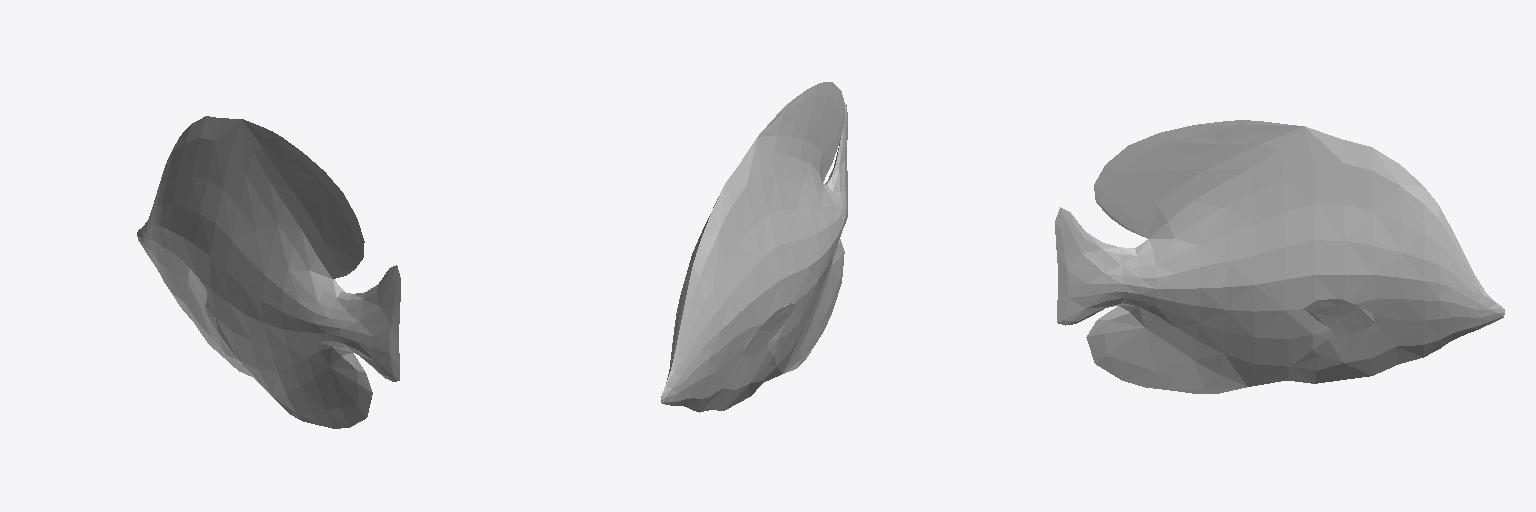
File: butterflyfishmedpolyUVsubsurfnewanim.obj
The picture shows the model from 3 angles: view 1: azimuth 30°, elevation 25°; view 2: azimuth 150°, elevation 25°; view 3: azimuth 270°, elevation 25°; orthographic projection.
Visible parts, largest first — view 1: Plane; view 2: Plane; view 3: Plane.
Boxes of the visible parts, x1,y1,x2,y2 form: Plane: [137, 116, 400, 428]; Plane: [661, 82, 847, 412]; Plane: [1055, 120, 1504, 393].
Size of the model in its own units: 1.51 by 4.91 by 7.36.